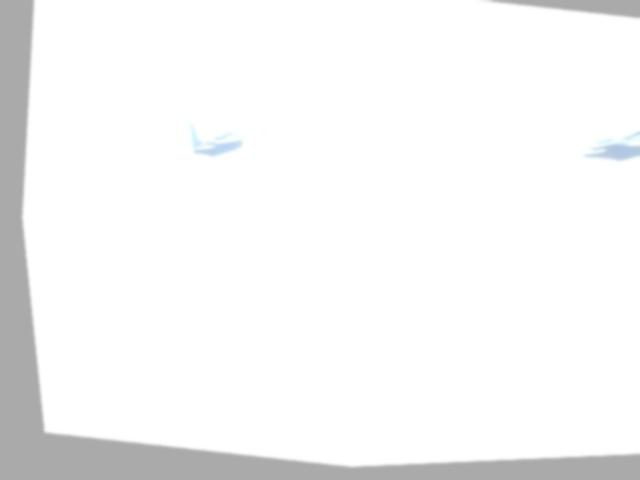uav: (144, 108, 272, 176), (547, 116, 640, 181)
